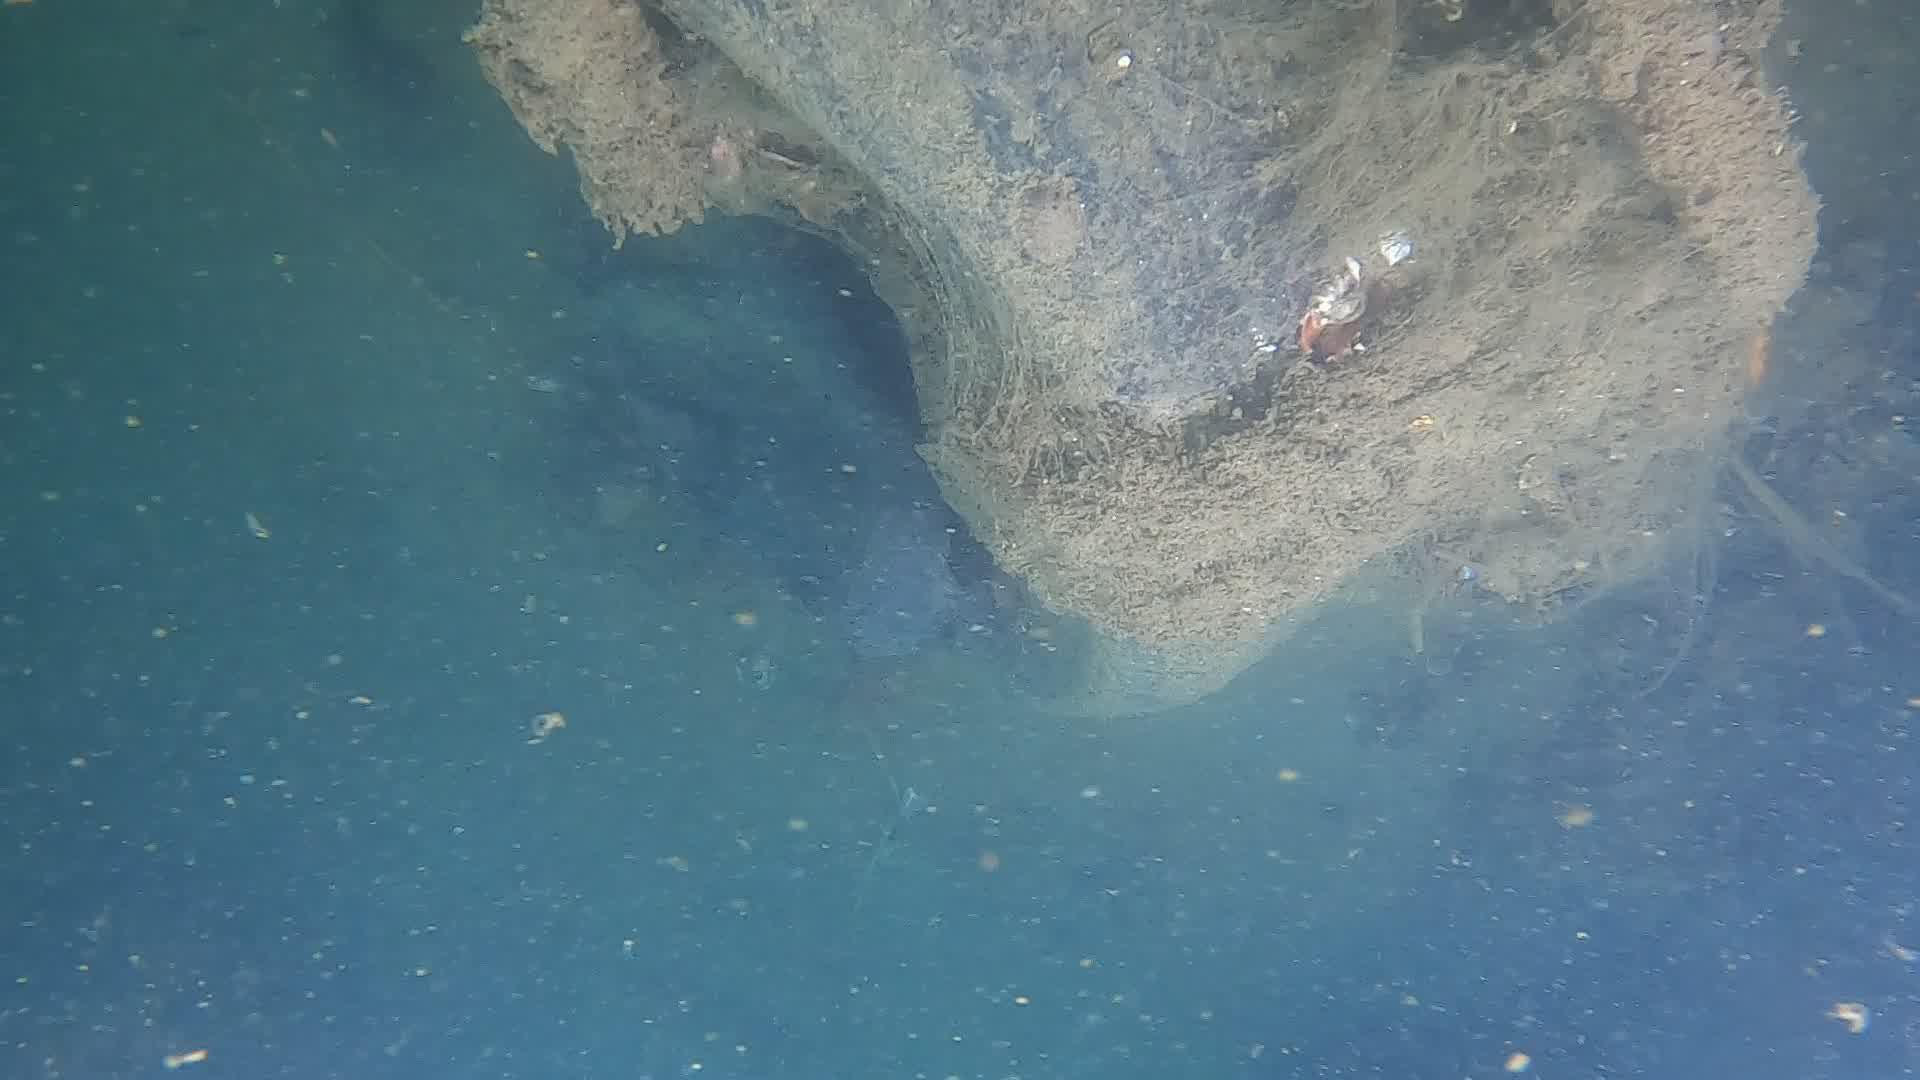tire: (211, 0, 1309, 724)
